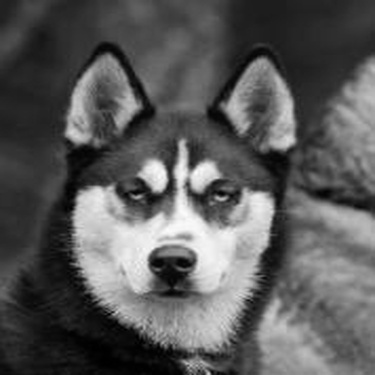dog: (1, 38, 312, 372)
